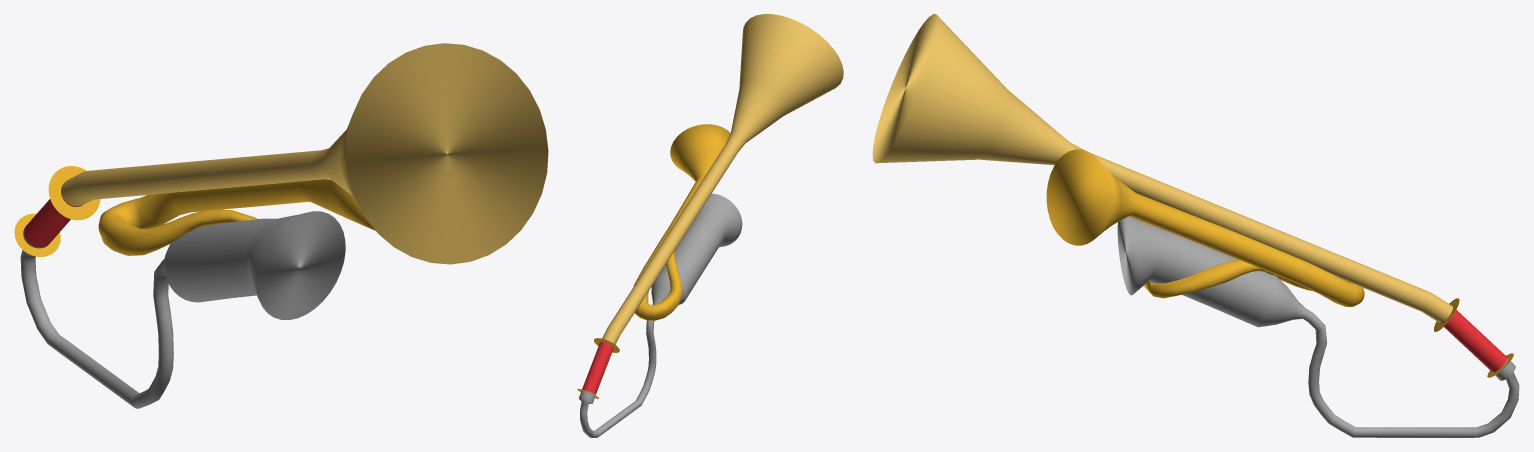
The model's file is Waffe.glb.
3 renders of one model, left to right at view 1: azimuth 30°, elevation 25°; view 2: azimuth 150°, elevation 25°; view 3: azimuth 270°, elevation 25°, orthographic. The views are drawn at different scales.
Visible parts, largest first — view 1: Cylinder, Cylinder.003, Cylinder.001, Cylinder.002, Torus, Torus.001; view 2: Cylinder, Cylinder.003, Cylinder.001, Cylinder.002; view 3: Cylinder, Cylinder.001, Cylinder.003, Cylinder.002.
Part boxes in pixels (box(x1,y1,x2,y2)): Cylinder: box(61, 43, 548, 264); Cylinder.003: box(20, 211, 345, 408); Cylinder.001: box(98, 179, 375, 255); Cylinder.002: box(24, 192, 82, 247); Torus: box(48, 166, 100, 220); Torus.001: box(14, 213, 60, 256); Cylinder: box(602, 14, 843, 344); Cylinder.003: box(579, 193, 742, 437); Cylinder.001: box(633, 124, 730, 320); Cylinder.002: box(582, 342, 613, 394); Cylinder: box(872, 14, 1452, 322); Cylinder.001: box(1046, 149, 1364, 307); Cylinder.003: box(1117, 216, 1519, 437); Cylinder.002: box(1440, 310, 1507, 371).
Size of the model in its own units: 1.34 by 3.55 by 5.02.
